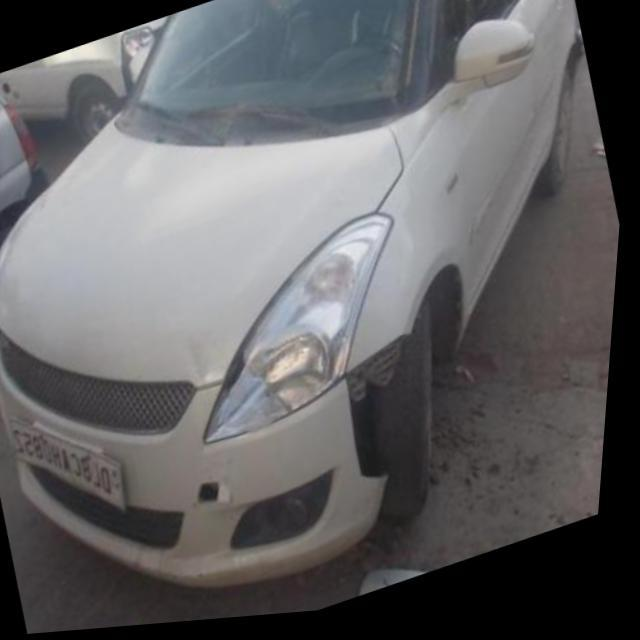crack: (201, 483, 231, 513)
dislocated part: (225, 259, 313, 395)
no part: (344, 337, 415, 490)
